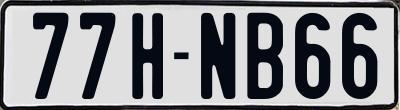6: (340, 10, 381, 100), (295, 10, 333, 98)
7: (30, 12, 70, 98), (79, 10, 115, 101)
B: (245, 12, 285, 98)
H: (131, 10, 163, 96)
N: (201, 13, 235, 102)
